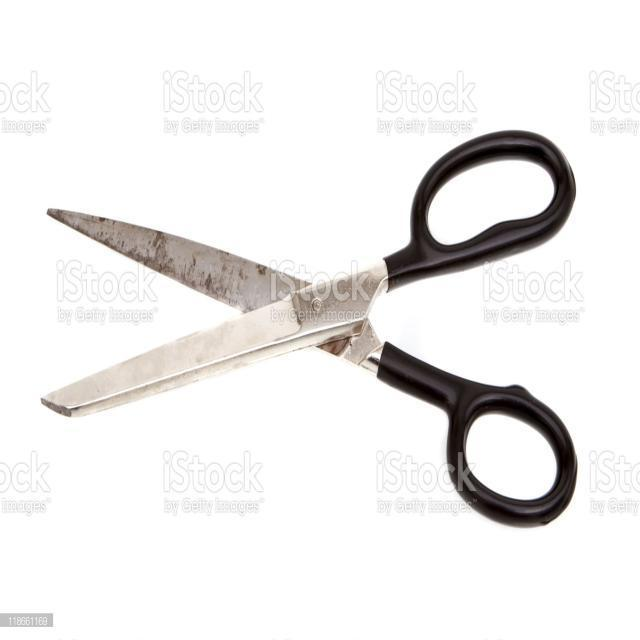scissor: (41, 129, 584, 531)
